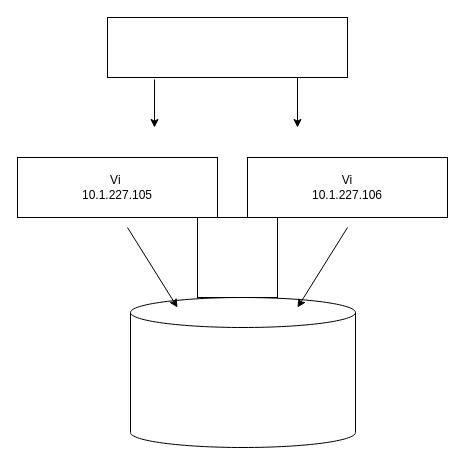
Image size: 465x465. Some labels were removed from this diagram. The shapes that lost their labels are listed below. From the top down, each one's centre as x and y in pixels, then its label:
(227,47): LB 172.27.22.105
(243,372): MSSQL DB 10.1.227.107
